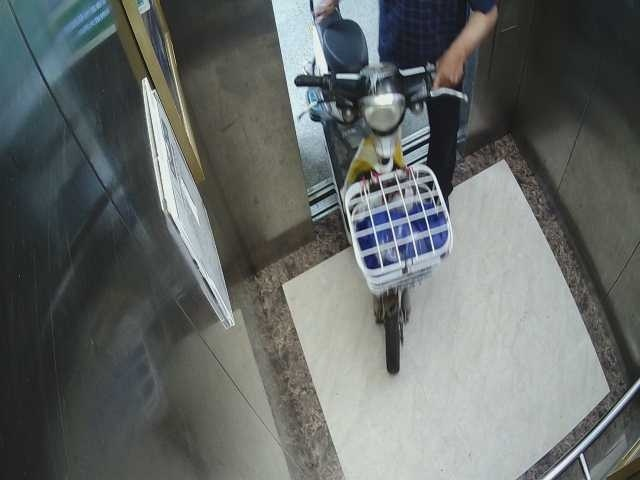emotor: (289, 4, 450, 370)
